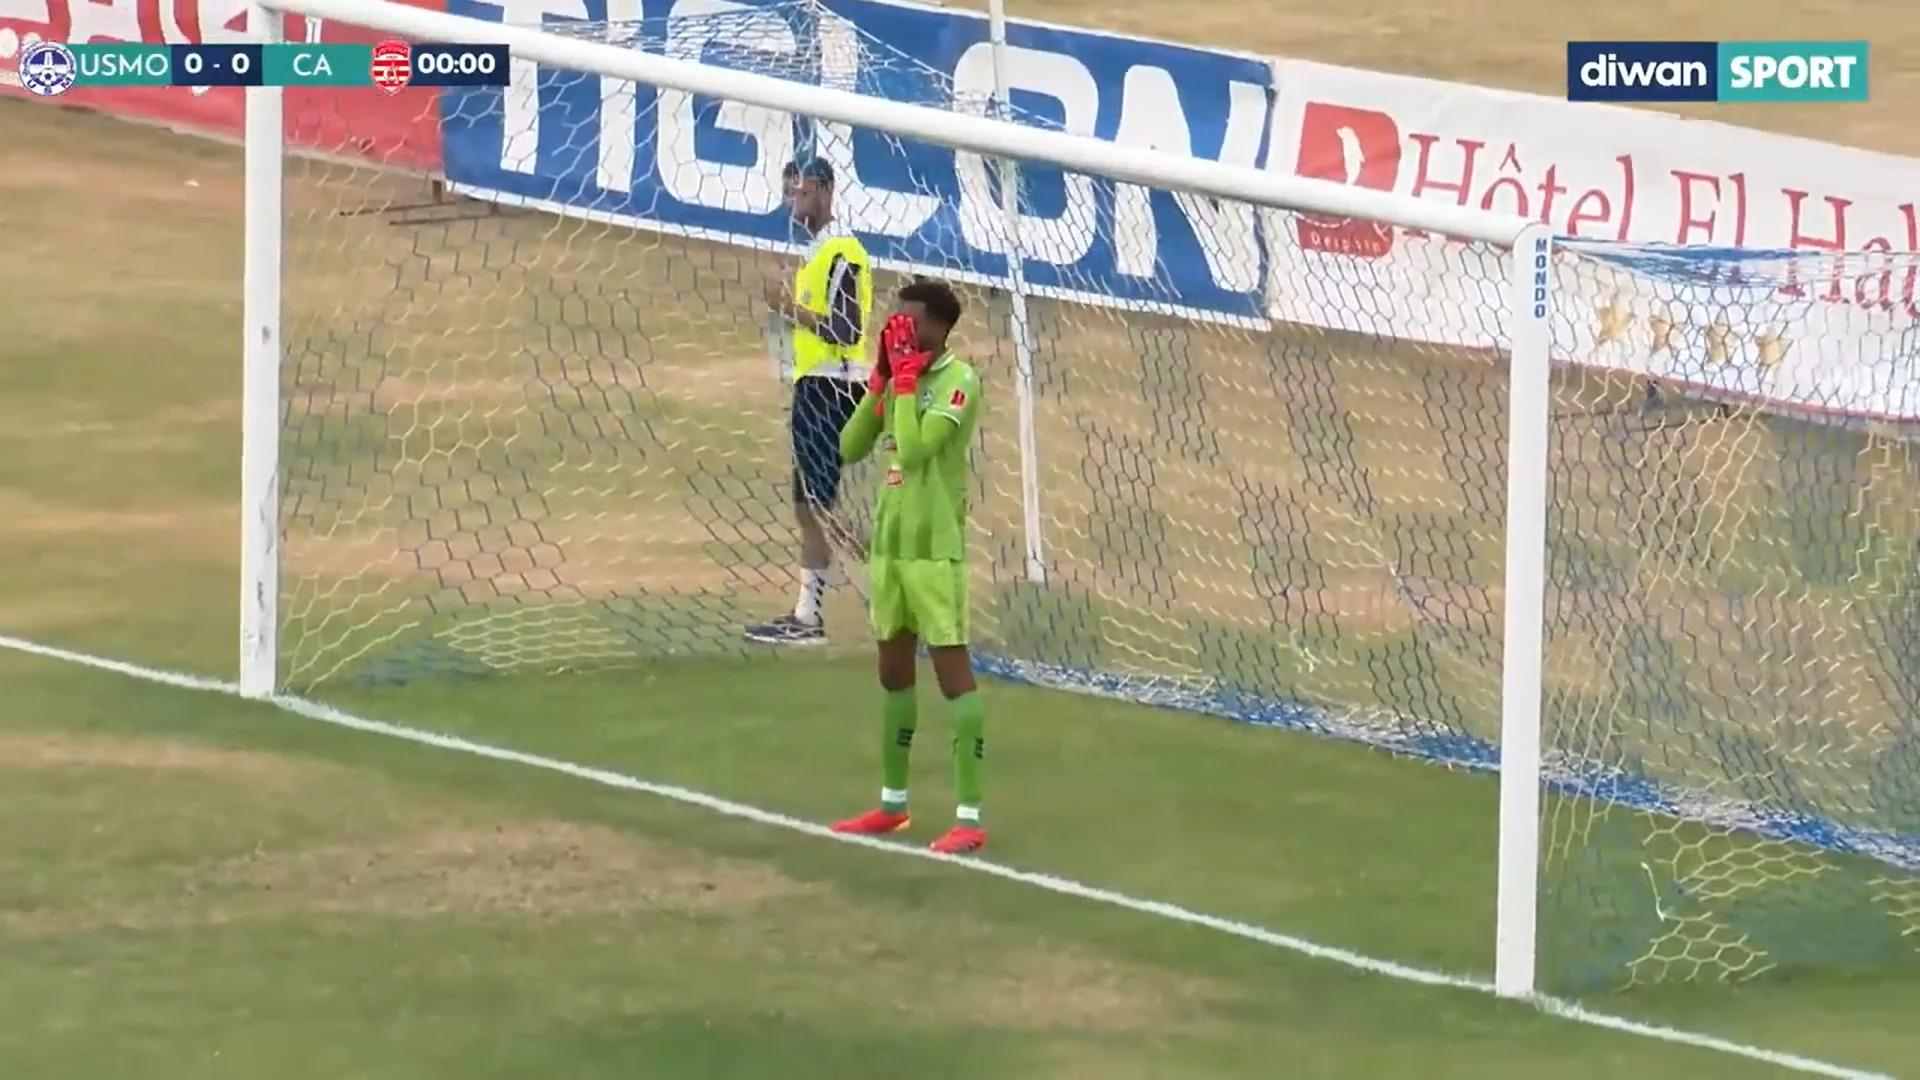goalkeeper: (816, 284, 1075, 862)
